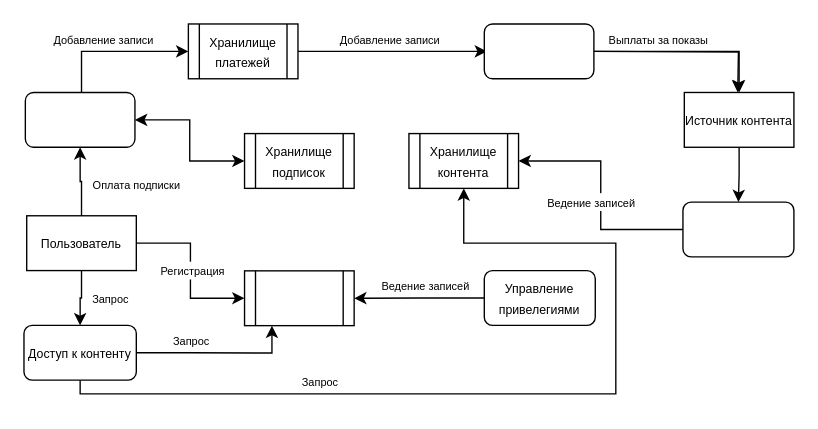
Some shapes in this 818 by 429 pixel diagram are drawn without their labels. Here are the shapes that lost their labels. From the top down, the centre of each, then its label:
At point 538,51: "Учет выплат".
At point 79,119: "Учет платежей".
At point 738,229: "Ведение контента".
At point 298,297: "Хранилище пользователей".
